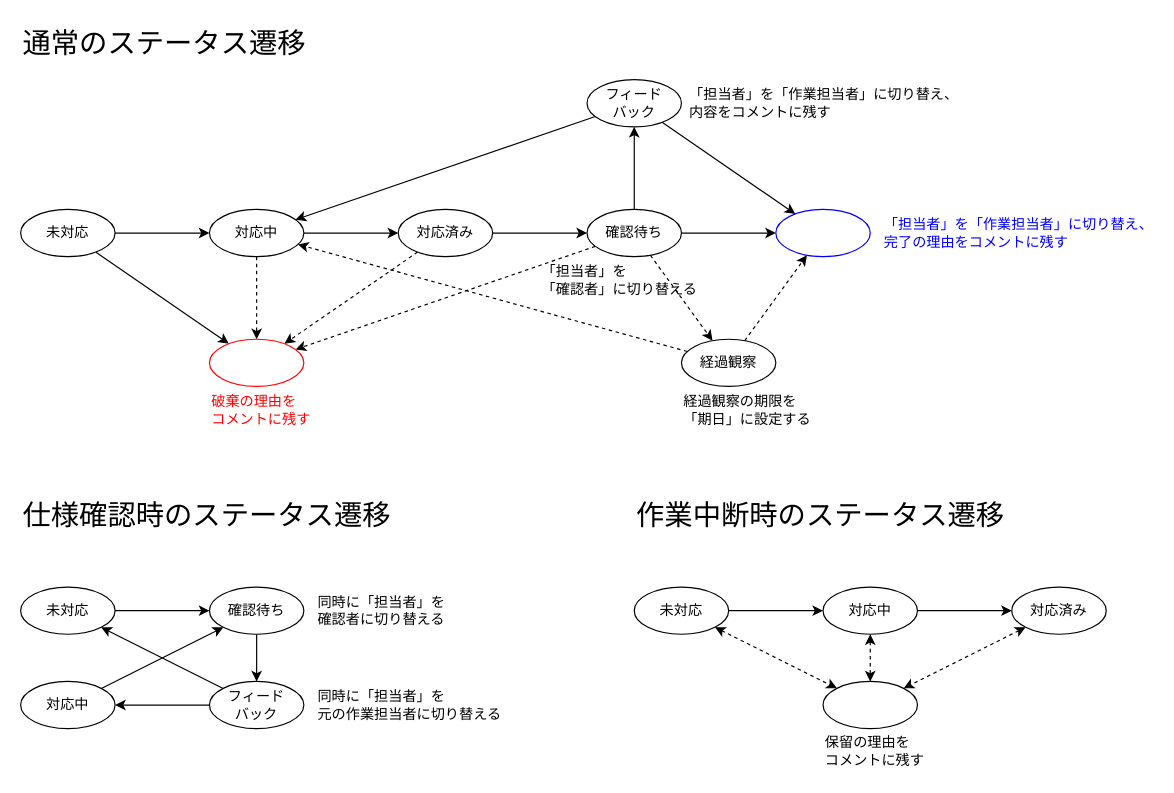
Some shapes in this 1174 by 793 pixel diagram are drawn without their labels. Here are the shapes that lost their labels. From the top down, the centre of each, then its label:
At [822,232]: "完了".
At [256,362]: "破棄".
At [869,704]: "保留".
